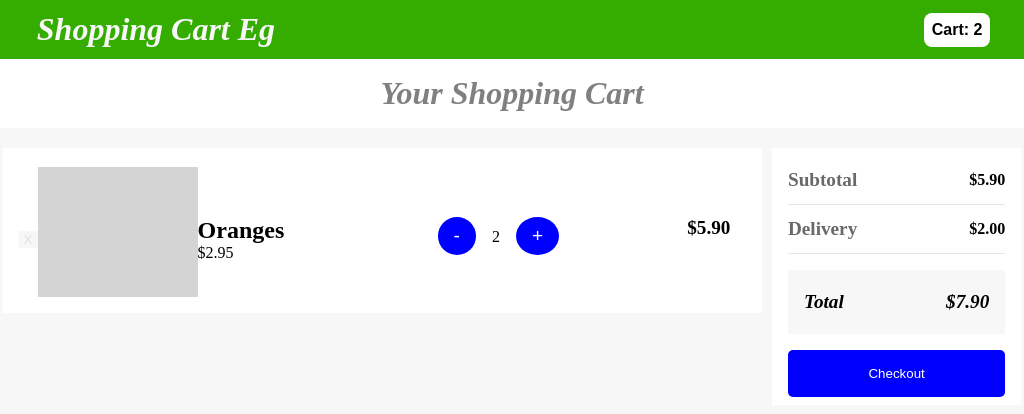
Test: <Cart /> › should show empty cart when qty is 0 when current qty is 2
The width and height of the screenshot is (1024, 414).
Click the button "-" at (457, 236), box [438, 217, 476, 255]
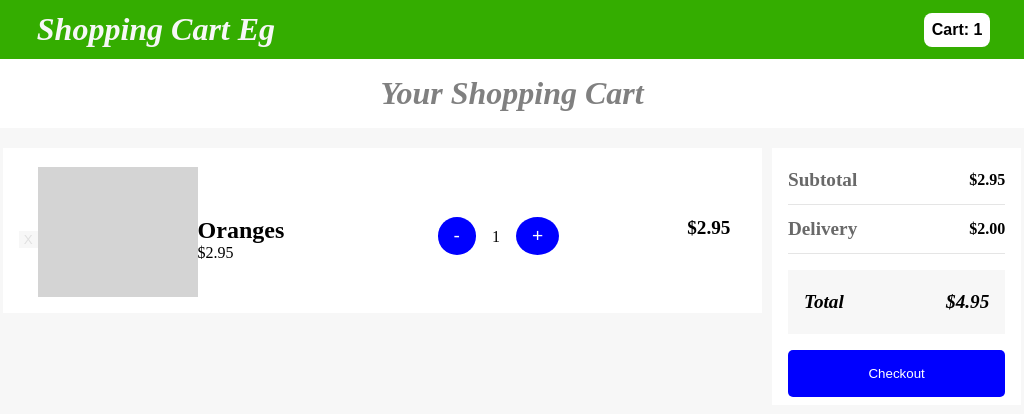
Click the button "-" at (457, 236), box [438, 217, 476, 255]
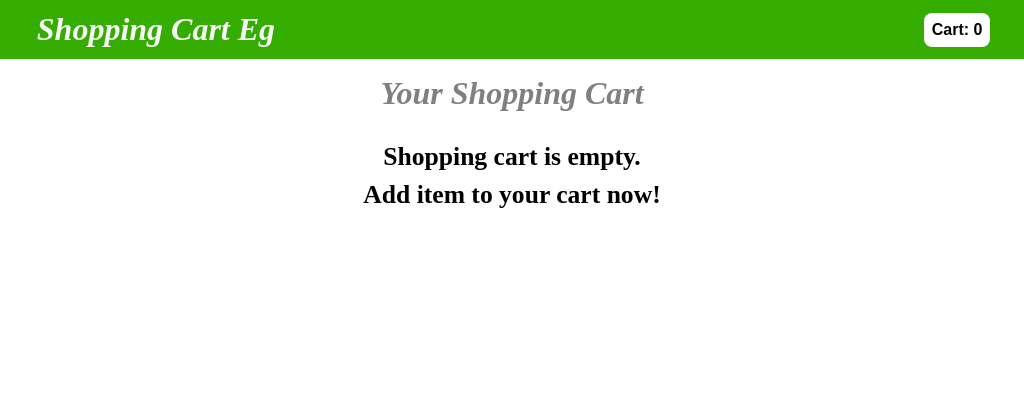
Result: the heading "Shopping cart is empty. Add item to your cart now!" is shown at [363, 142, 661, 209]
